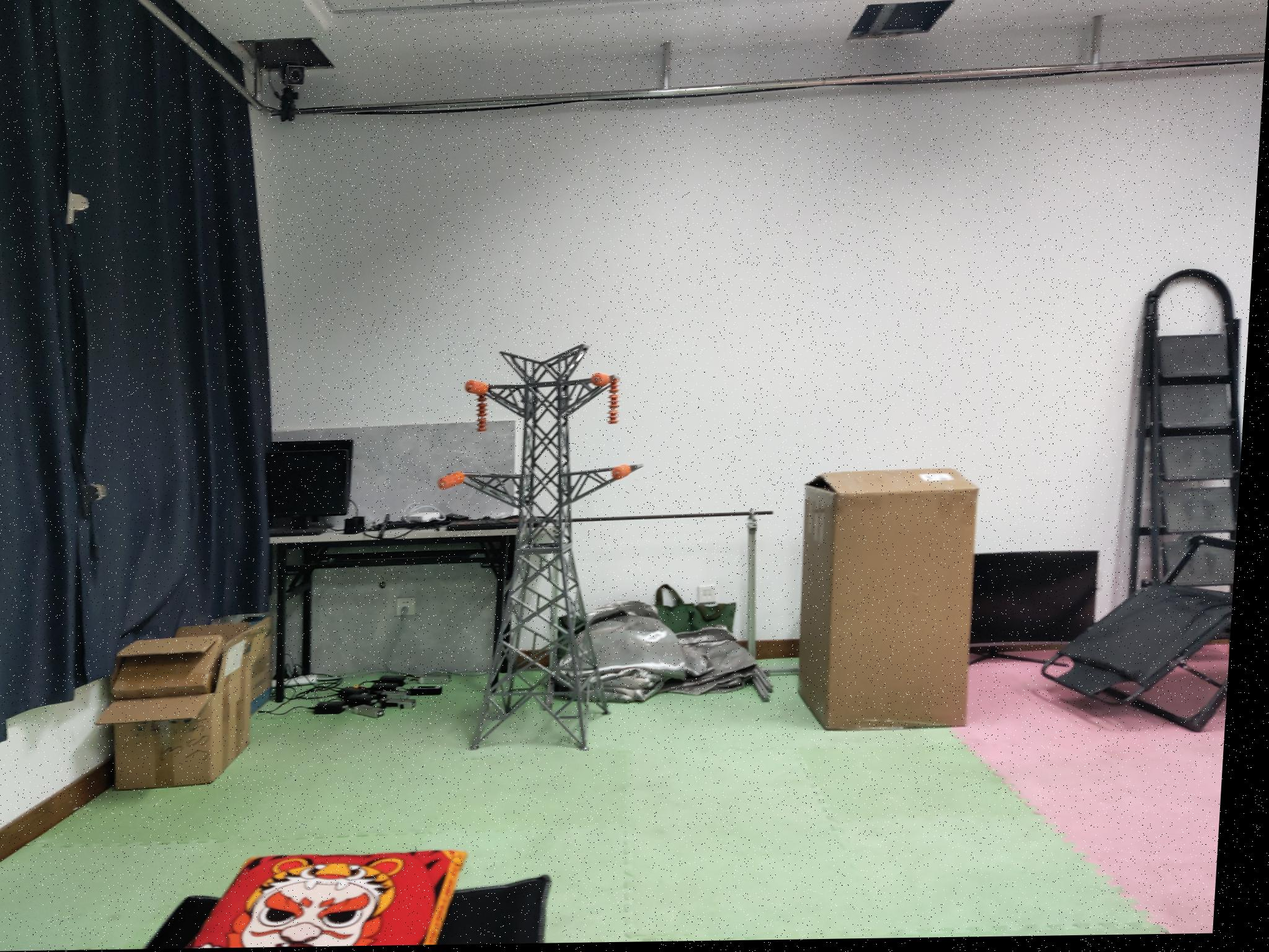tower: (449, 343, 648, 753)
